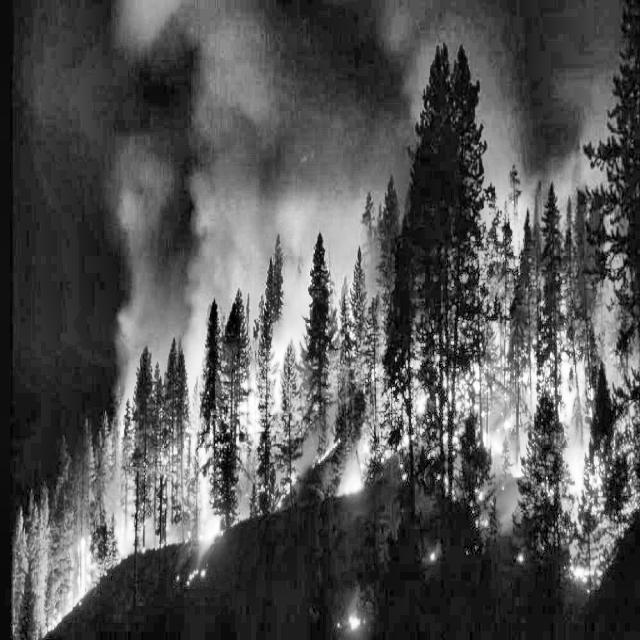fire: (427, 247, 639, 640), (215, 234, 420, 594), (12, 377, 242, 640)
